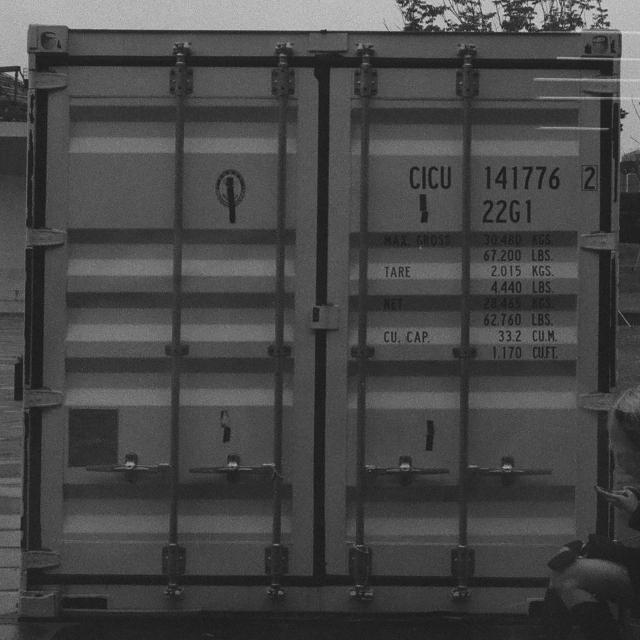ISO: (476, 192, 540, 228)
container_number: (410, 160, 590, 193)
